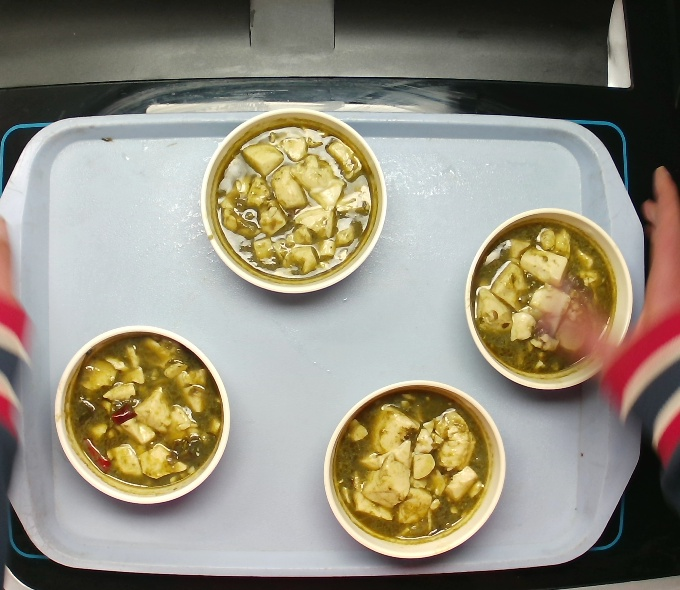wcq-SuanCaiDouFu: (206, 117, 378, 285), (62, 330, 226, 498), (331, 383, 491, 545), (468, 216, 620, 380)
